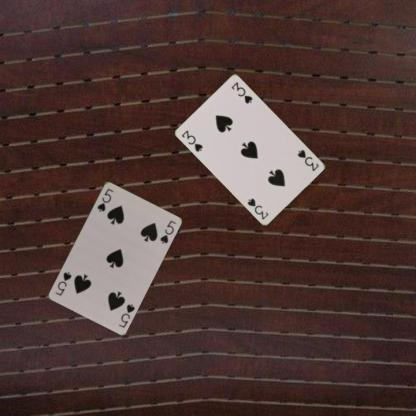3s: (295, 147, 321, 172), (179, 128, 204, 153)
5s: (116, 301, 136, 329), (94, 186, 115, 212)
